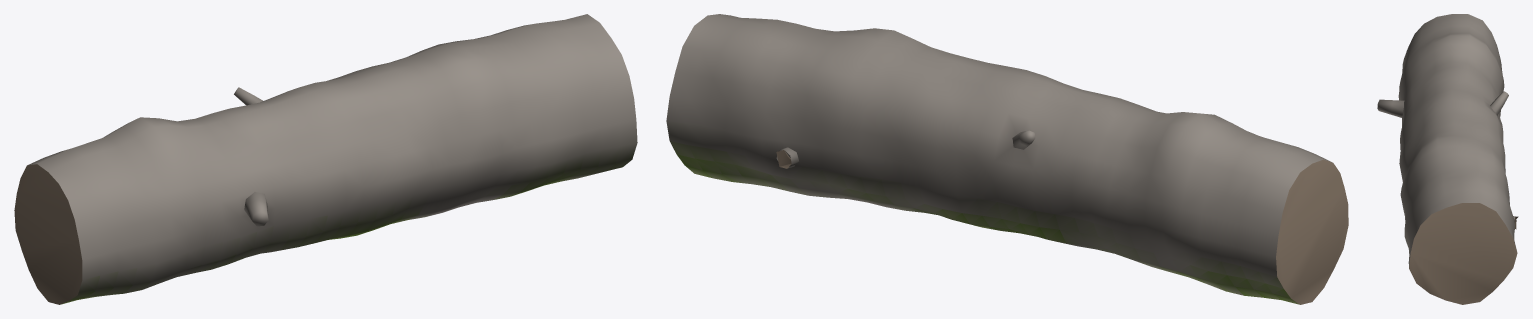
File: log_long.glb
The picture shows the model from 3 angles, left to right: view 1: azimuth 30°, elevation 25°; view 2: azimuth 150°, elevation 25°; view 3: azimuth 270°, elevation 25°; orthographic projection. The views are drawn at different scales.
Parts seen in each view (by area): view 1: log_long; view 2: log_long; view 3: log_long.
Boxes of the visible parts, x1=… form: log_long: x1=14, y1=14, x2=637, y2=304; log_long: x1=666, y1=14, x2=1348, y2=304; log_long: x1=1377, y1=14, x2=1518, y2=304.
Size of what is drawn, in the model's own units: 2.3 by 0.6173 by 0.7057.
